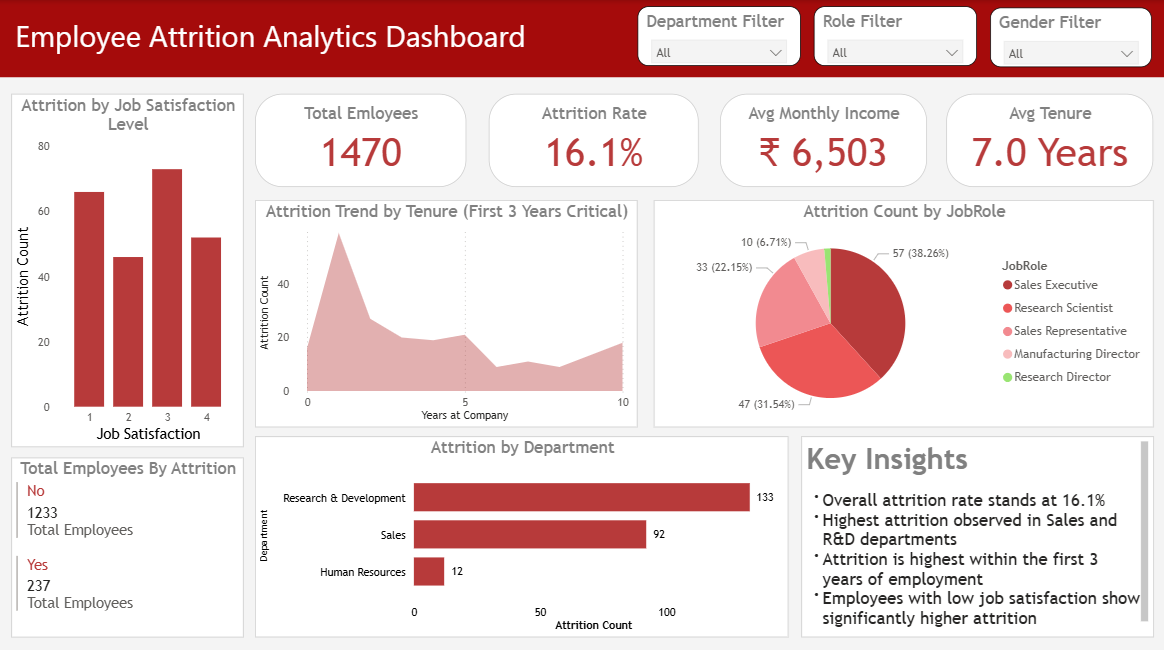

This screenshot's page, from the dashboard's own definition file:
{"tool":"powerbi","page":{"name":"Page 1","canvas":[1280,720],"ordinal":0},"visuals":[{"type":"card","title":"Total Emloyees","fields":{"Values":["Cleaned_HR_Employee_Attrition.Total Employees"]},"box":[280.5,102.5,231.8,102.5],"z":0},{"type":"card","title":"Attrition Rate","fields":{"Values":["Cleaned_HR_Employee_Attrition.Attrition Rate %"]},"box":[535.9,102.5,230.1,102.5],"z":1000},{"type":"card","title":"Avg Monthly Income","fields":{"Values":["Cleaned_HR_Employee_Attrition.Avg Monthly Income"]},"box":[790.2,102.4,226.8,102.4],"z":2000},{"type":"multiRowCard","title":"Total Employees By Attrition","fields":{"Values":["Cleaned_HR_Employee_Attrition.Attrition","Cleaned_HR_Employee_Attrition.Total Employees"]},"box":[12.3,502.2,255.2,197.6],"z":3000},{"type":"pieChart","fields":{"Category":["Cleaned_HR_Employee_Attrition.JobRole"],"Y":["Cleaned_HR_Employee_Attrition.Attrition Count"]},"box":[717.7,219.6,548.9,249.7],"z":4000},{"type":"clusteredColumnChart","title":"Attrition by Job Satisfaction Level","fields":{"Category":["Cleaned_HR_Employee_Attrition.JobSatisfaction"],"Y":["Cleaned_HR_Employee_Attrition.Attrition Count"]},"box":[12.3,102.9,255.2,388.3],"z":5000},{"type":"areaChart","title":"Attrition Trend by Tenure (First 3 Years Critical)","fields":{"Y":["Cleaned_HR_Employee_Attrition.Attrition Count"],"Category":["Cleaned_HR_Employee_Attrition.YearsAtCompany"]},"box":[279.9,219.6,419.9,249.7],"z":6000},{"type":"card","title":"Avg Tenure","fields":{"Values":["Cleaned_HR_Employee_Attrition.Avg Tenure"]},"box":[1039,102.4,226.8,102.4],"z":7000},{"type":"textbox","box":[0,0,1280.5,84.9],"z":8000},{"type":"slicer","title":"Department Filter","fields":{"Values":["Cleaned_HR_Employee_Attrition.Department"]},"box":[700.3,7.5,179.1,65.9],"z":9000},{"type":"slicer","title":"Role Filter","fields":{"Values":["Cleaned_HR_Employee_Attrition.JobRole"]},"box":[893.2,7.5,179.1,65.9],"z":10000},{"type":"slicer","title":"Gender Filter","fields":{"Values":["Cleaned_HR_Employee_Attrition.Gender"]},"box":[1087.2,8.7,177.9,65.9],"z":11000},{"type":"barChart","title":"Attrition by Department","fields":{"Category":["Cleaned_HR_Employee_Attrition.Department"],"Y":["Cleaned_HR_Employee_Attrition.Attrition Count"]},"box":[279.9,478.9,585.9,220.9],"z":12000},{"type":"textbox","box":[879.6,478.9,387,220.9],"z":13000}]}

Visuals, with their boxes in screenshot pixels (x1, y1, x2, y2), scaled from the page's 1280x720 canvas onto the 1164x650 screenshot:
"Total Emloyees" card: 255,93,466,185
"Attrition Rate" card: 487,93,697,185
"Avg Monthly Income" card: 719,92,925,185
"Total Employees By Attrition" multiRowCard: 11,453,243,632
pieChart - Cleaned_HR_Employee_Attrition.JobRole x Cleaned_HR_Employee_Attrition.Attrition Count: 653,198,1152,424
"Attrition by Job Satisfaction Level" clusteredColumnChart: 11,93,243,443
"Attrition Trend by Tenure (First 3 Years Critical)" areaChart: 255,198,636,424
"Avg Tenure" card: 945,92,1151,185
textbox: 0,0,1163,77
"Department Filter" slicer: 637,7,800,66
"Role Filter" slicer: 812,7,975,66
"Gender Filter" slicer: 989,8,1150,67
"Attrition by Department" barChart: 255,432,787,632
textbox: 800,432,1152,632
